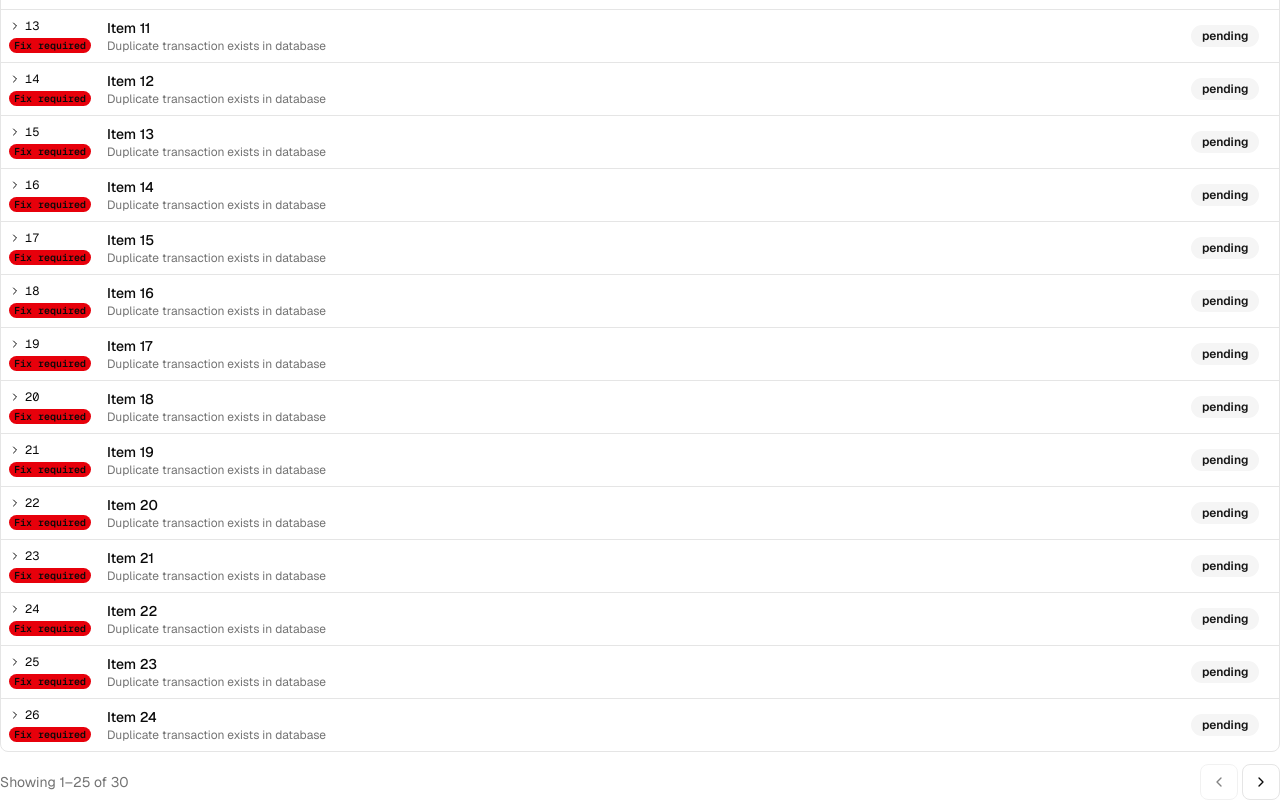
Test case: FailedTransactionsGrid › pagination › navigates to next page
The image size is (1280, 800).
(page scrolled)
Step 1. Click the button named "Next page" → x=1261, y=782, box [1242,764,1279,799]
(page scrolled)
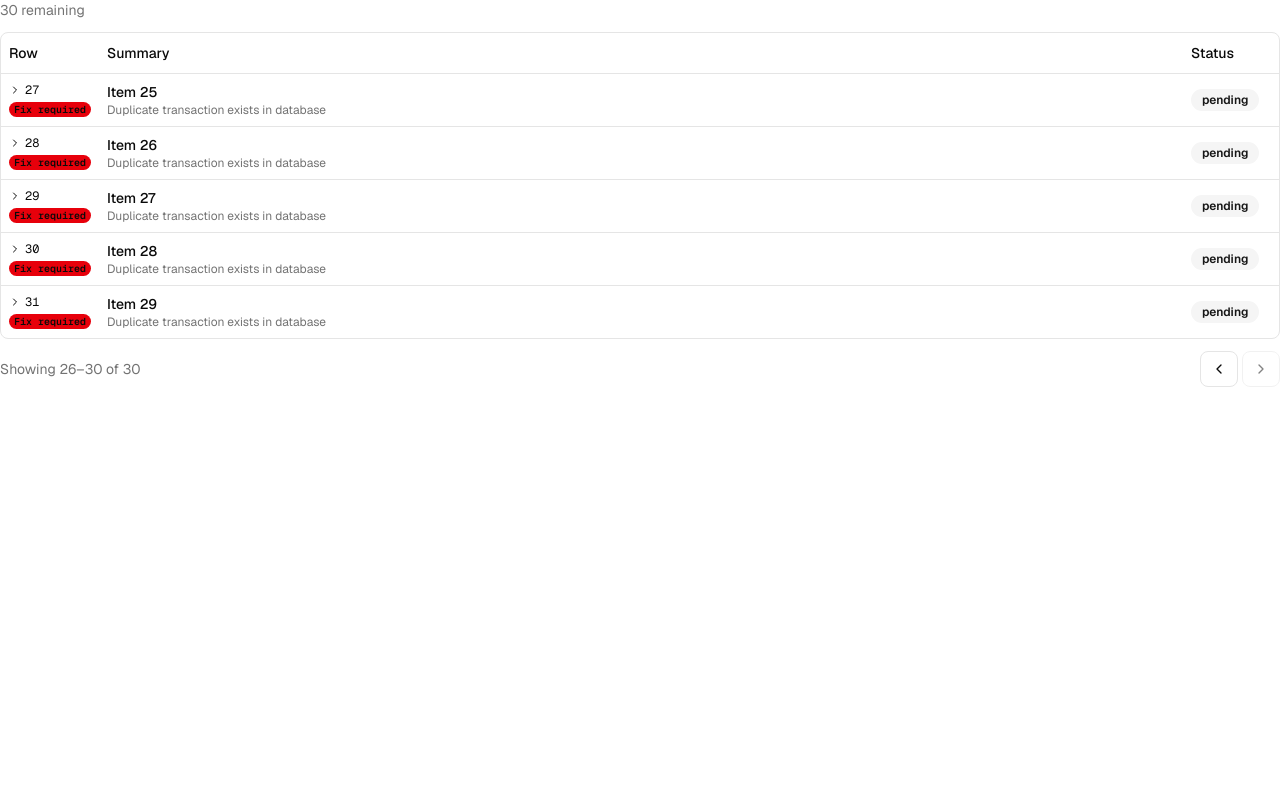
Now the text "Showing 26–30 of 30" is shown, box [0,358,140,378]
